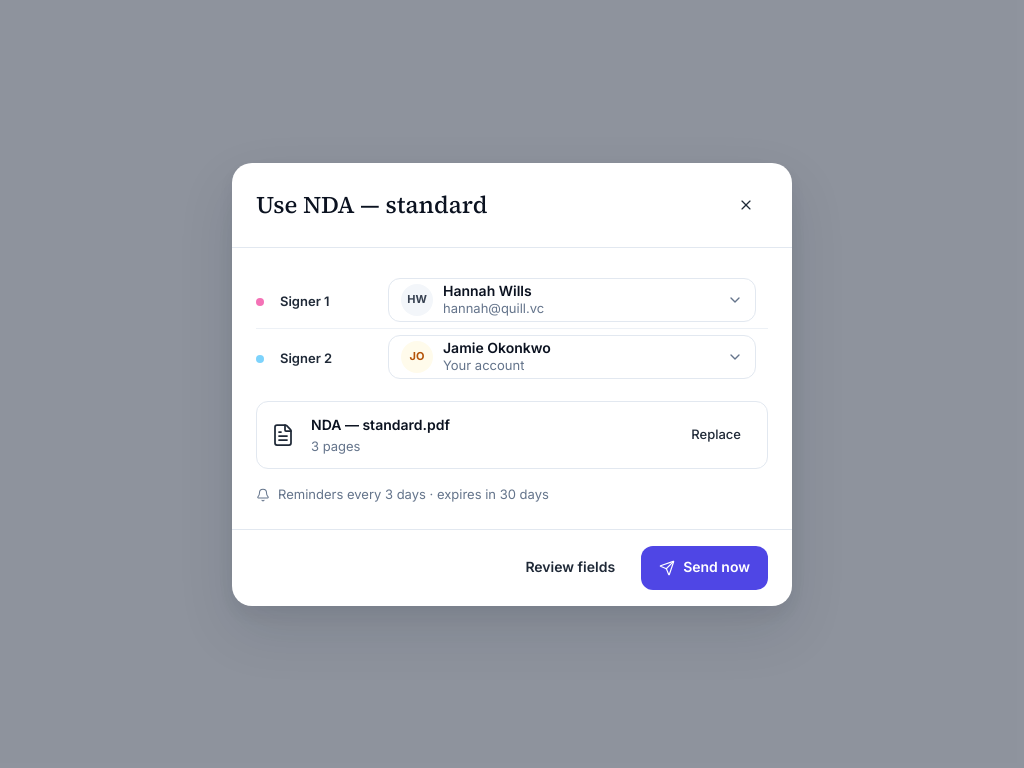
Test: UseTemplateDialog — Send now › shows an error and stays open when the send fails
Expected: the text "NDA — standard.pdf" is shown, [311,416,450,432]
Click the button "Send now" at (705, 568), box [641,546,768,590]
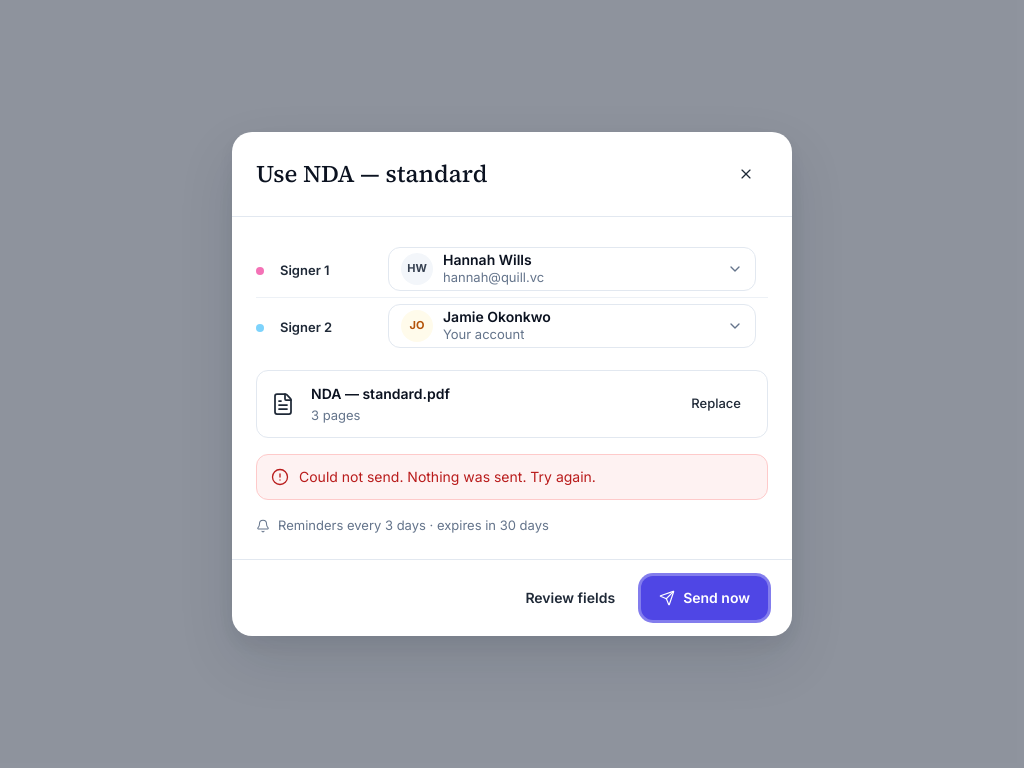
Expected: the button "Send now" is enabled, [641,576,768,620]
Result: the text "Could not send. Nothing was sent. Try again." is shown at [299,468,596,485]
